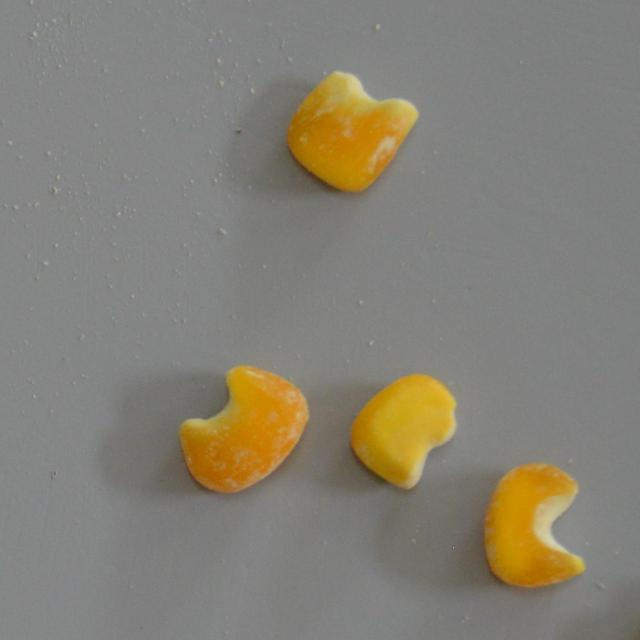no_canjicado: (347, 372, 456, 491)
pelicula: (176, 366, 308, 493), (287, 70, 420, 194), (480, 459, 587, 588)
